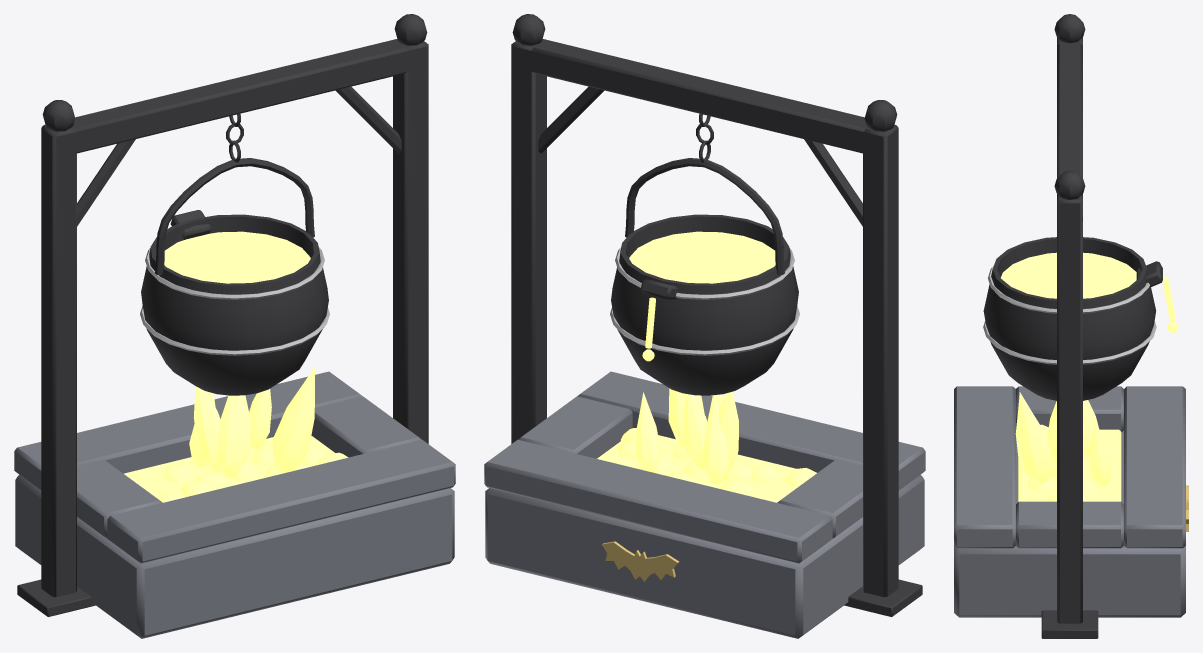
File: gu_crogiolo.fbx
The picture shows the model from 3 angles, left to right: view 1: azimuth 30°, elevation 25°; view 2: azimuth 150°, elevation 25°; view 3: azimuth 270°, elevation 25°; orthographic projection. The views are drawn at different scales.
Visible parts, largest first — view 1: gu_crogiolo_ferro, gu_crogiolo_basalto, gu_crogiolo_brace, gu_crogiolo_fuoco, gu_crogiolo_acciaio; view 2: gu_crogiolo_ferro, gu_crogiolo_basalto, gu_crogiolo_brace, gu_crogiolo_fuoco, gu_crogiolo_acciaio, gu_crogiolo_oro; view 3: gu_crogiolo_basalto, gu_crogiolo_ferro, gu_crogiolo_brace, gu_crogiolo_fuoco, gu_crogiolo_acciaio.
Boxes of the visible parts, x1,y1,x2,y2 form: gu_crogiolo_ferro: [17, 14, 428, 616]; gu_crogiolo_basalto: [14, 371, 455, 638]; gu_crogiolo_brace: [124, 231, 348, 502]; gu_crogiolo_fuoco: [189, 366, 315, 479]; gu_crogiolo_acciaio: [140, 247, 329, 355]; gu_crogiolo_ferro: [511, 14, 922, 616]; gu_crogiolo_basalto: [484, 371, 925, 638]; gu_crogiolo_brace: [597, 231, 816, 502]; gu_crogiolo_fuoco: [636, 388, 738, 486]; gu_crogiolo_acciaio: [610, 247, 799, 355]; gu_crogiolo_oro: [602, 541, 679, 581]; gu_crogiolo_basalto: [954, 386, 1185, 617]; gu_crogiolo_ferro: [983, 14, 1162, 638]; gu_crogiolo_brace: [1001, 252, 1178, 501]; gu_crogiolo_fuoco: [1015, 392, 1112, 487]; gu_crogiolo_acciaio: [983, 266, 1156, 364].
Bounding box in the file's own units: 1.66 × 1.95 × 0.912.
